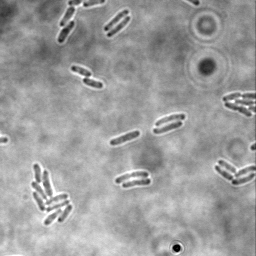Dividing: (109, 129, 141, 147), (155, 112, 186, 128), (115, 171, 150, 185)
Microcolony: (31, 163, 73, 226), (213, 157, 255, 186), (221, 92, 255, 118)
Rod: (101, 8, 130, 33), (106, 15, 131, 39), (152, 120, 185, 137), (55, 20, 76, 45), (58, 5, 76, 26), (121, 177, 152, 189), (70, 63, 93, 79), (82, 76, 104, 90)
